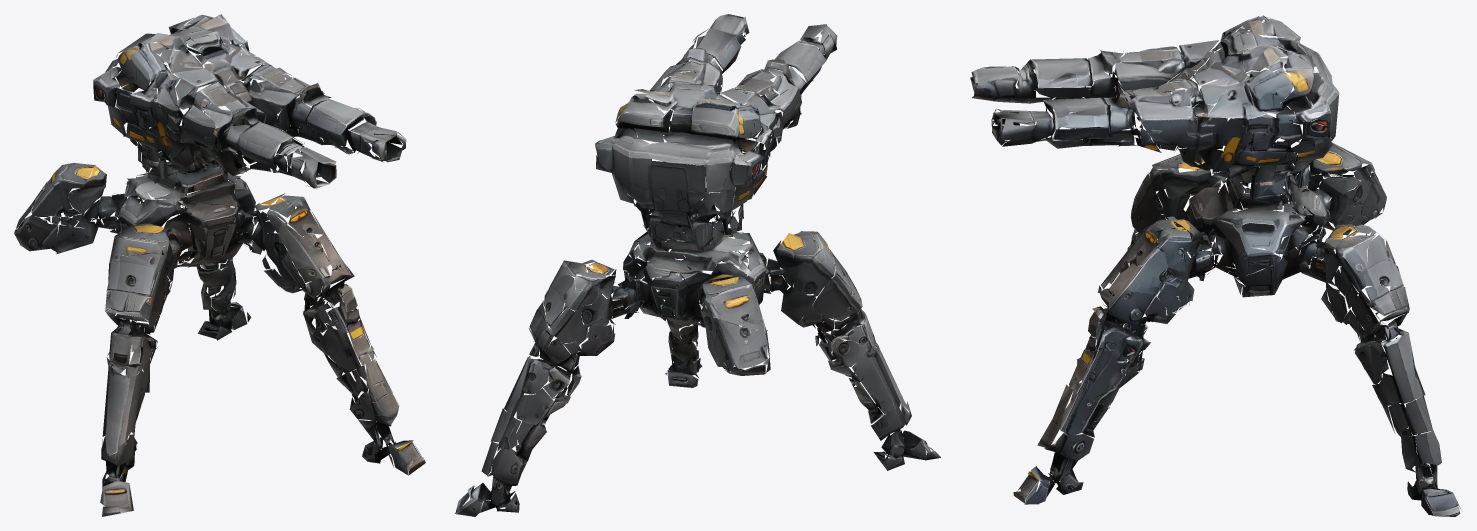
Rendered from GM_QuadCannon_Walker_LOD3.glb.
3 views of the same model, side by side, from view 1: azimuth 30°, elevation 25°; view 2: azimuth 150°, elevation 25°; view 3: azimuth 270°, elevation 25° (orthographic). The views are drawn at different scales.
Parts seen in each view (by area): view 1: GM_QuadCannon_Walker_LOD3_tmp; view 2: GM_QuadCannon_Walker_LOD3_tmp; view 3: GM_QuadCannon_Walker_LOD3_tmp.
Boxes of the visible parts, bbox=[...] form: GM_QuadCannon_Walker_LOD3_tmp: bbox=[14, 14, 425, 516]; GM_QuadCannon_Walker_LOD3_tmp: bbox=[454, 14, 940, 516]; GM_QuadCannon_Walker_LOD3_tmp: bbox=[970, 15, 1460, 516].
Bounding box in the file's own units: 0.7589 × 0.8951 × 0.9736.
1 material, 1 textured.
